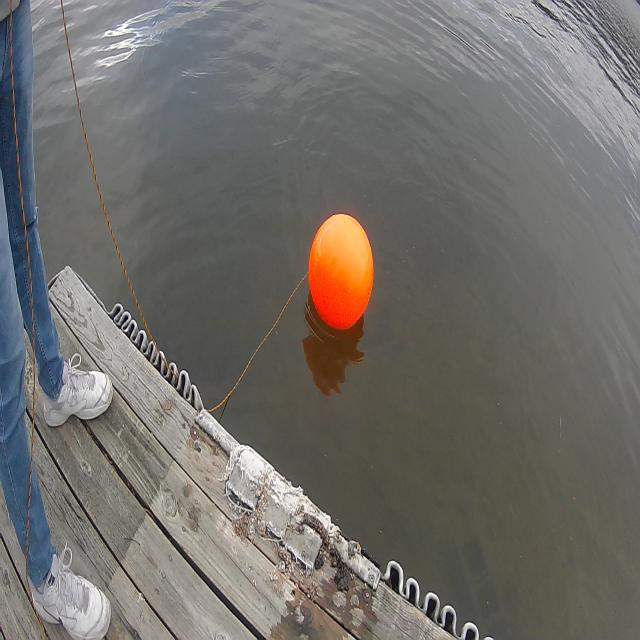Buoy: (303, 195, 382, 343)
